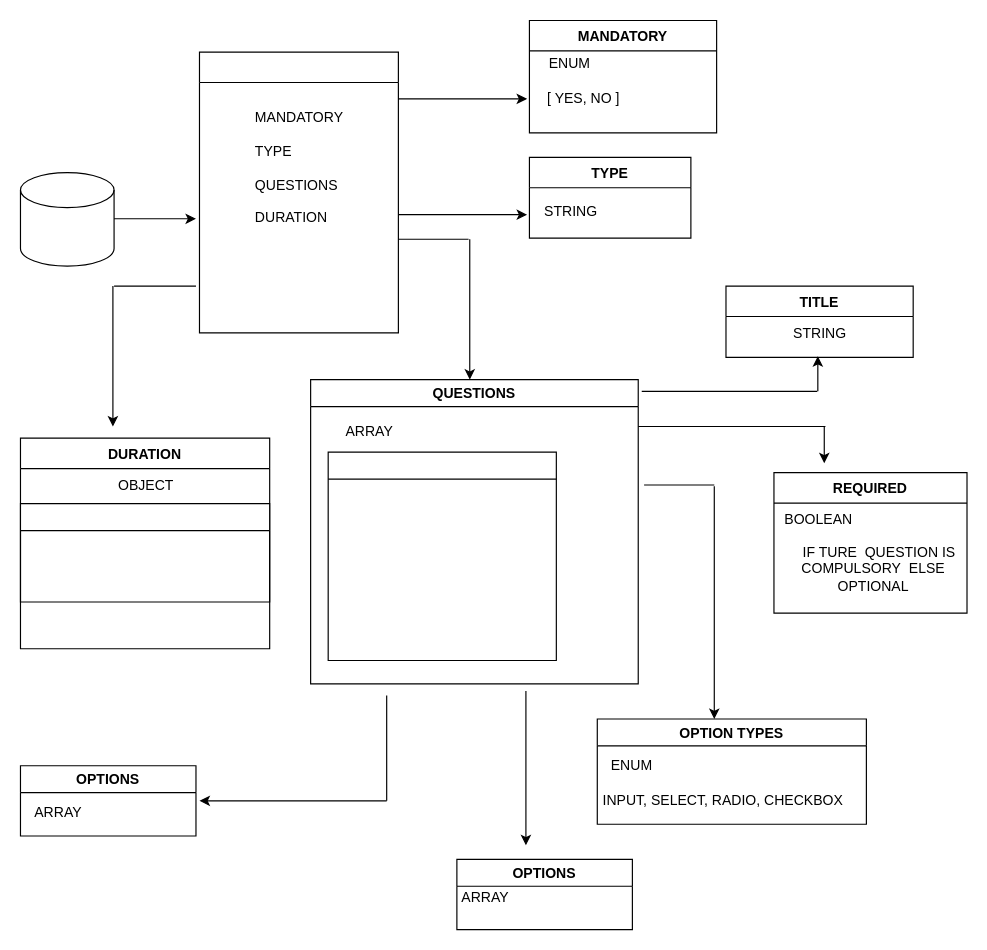
Some shapes in this 987 by 950 pixel diagram are drawn without their labels. The shapes that lost their labels are listed below. From the top down, each one's centre as x and y in pixels, then its label:
At (66,218): "SURVEY".
At (144,552): "START DATETIME END DATETIME".
At (441,555): "TITLE OPTION TYPES OPTIONS REQUIRED ANSWERS".
